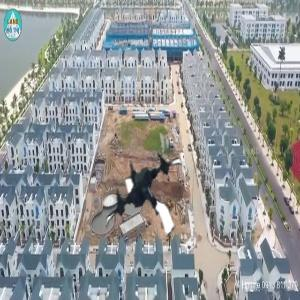drone: (96, 151, 201, 256)
